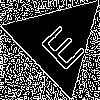E: (32, 16, 87, 73)
